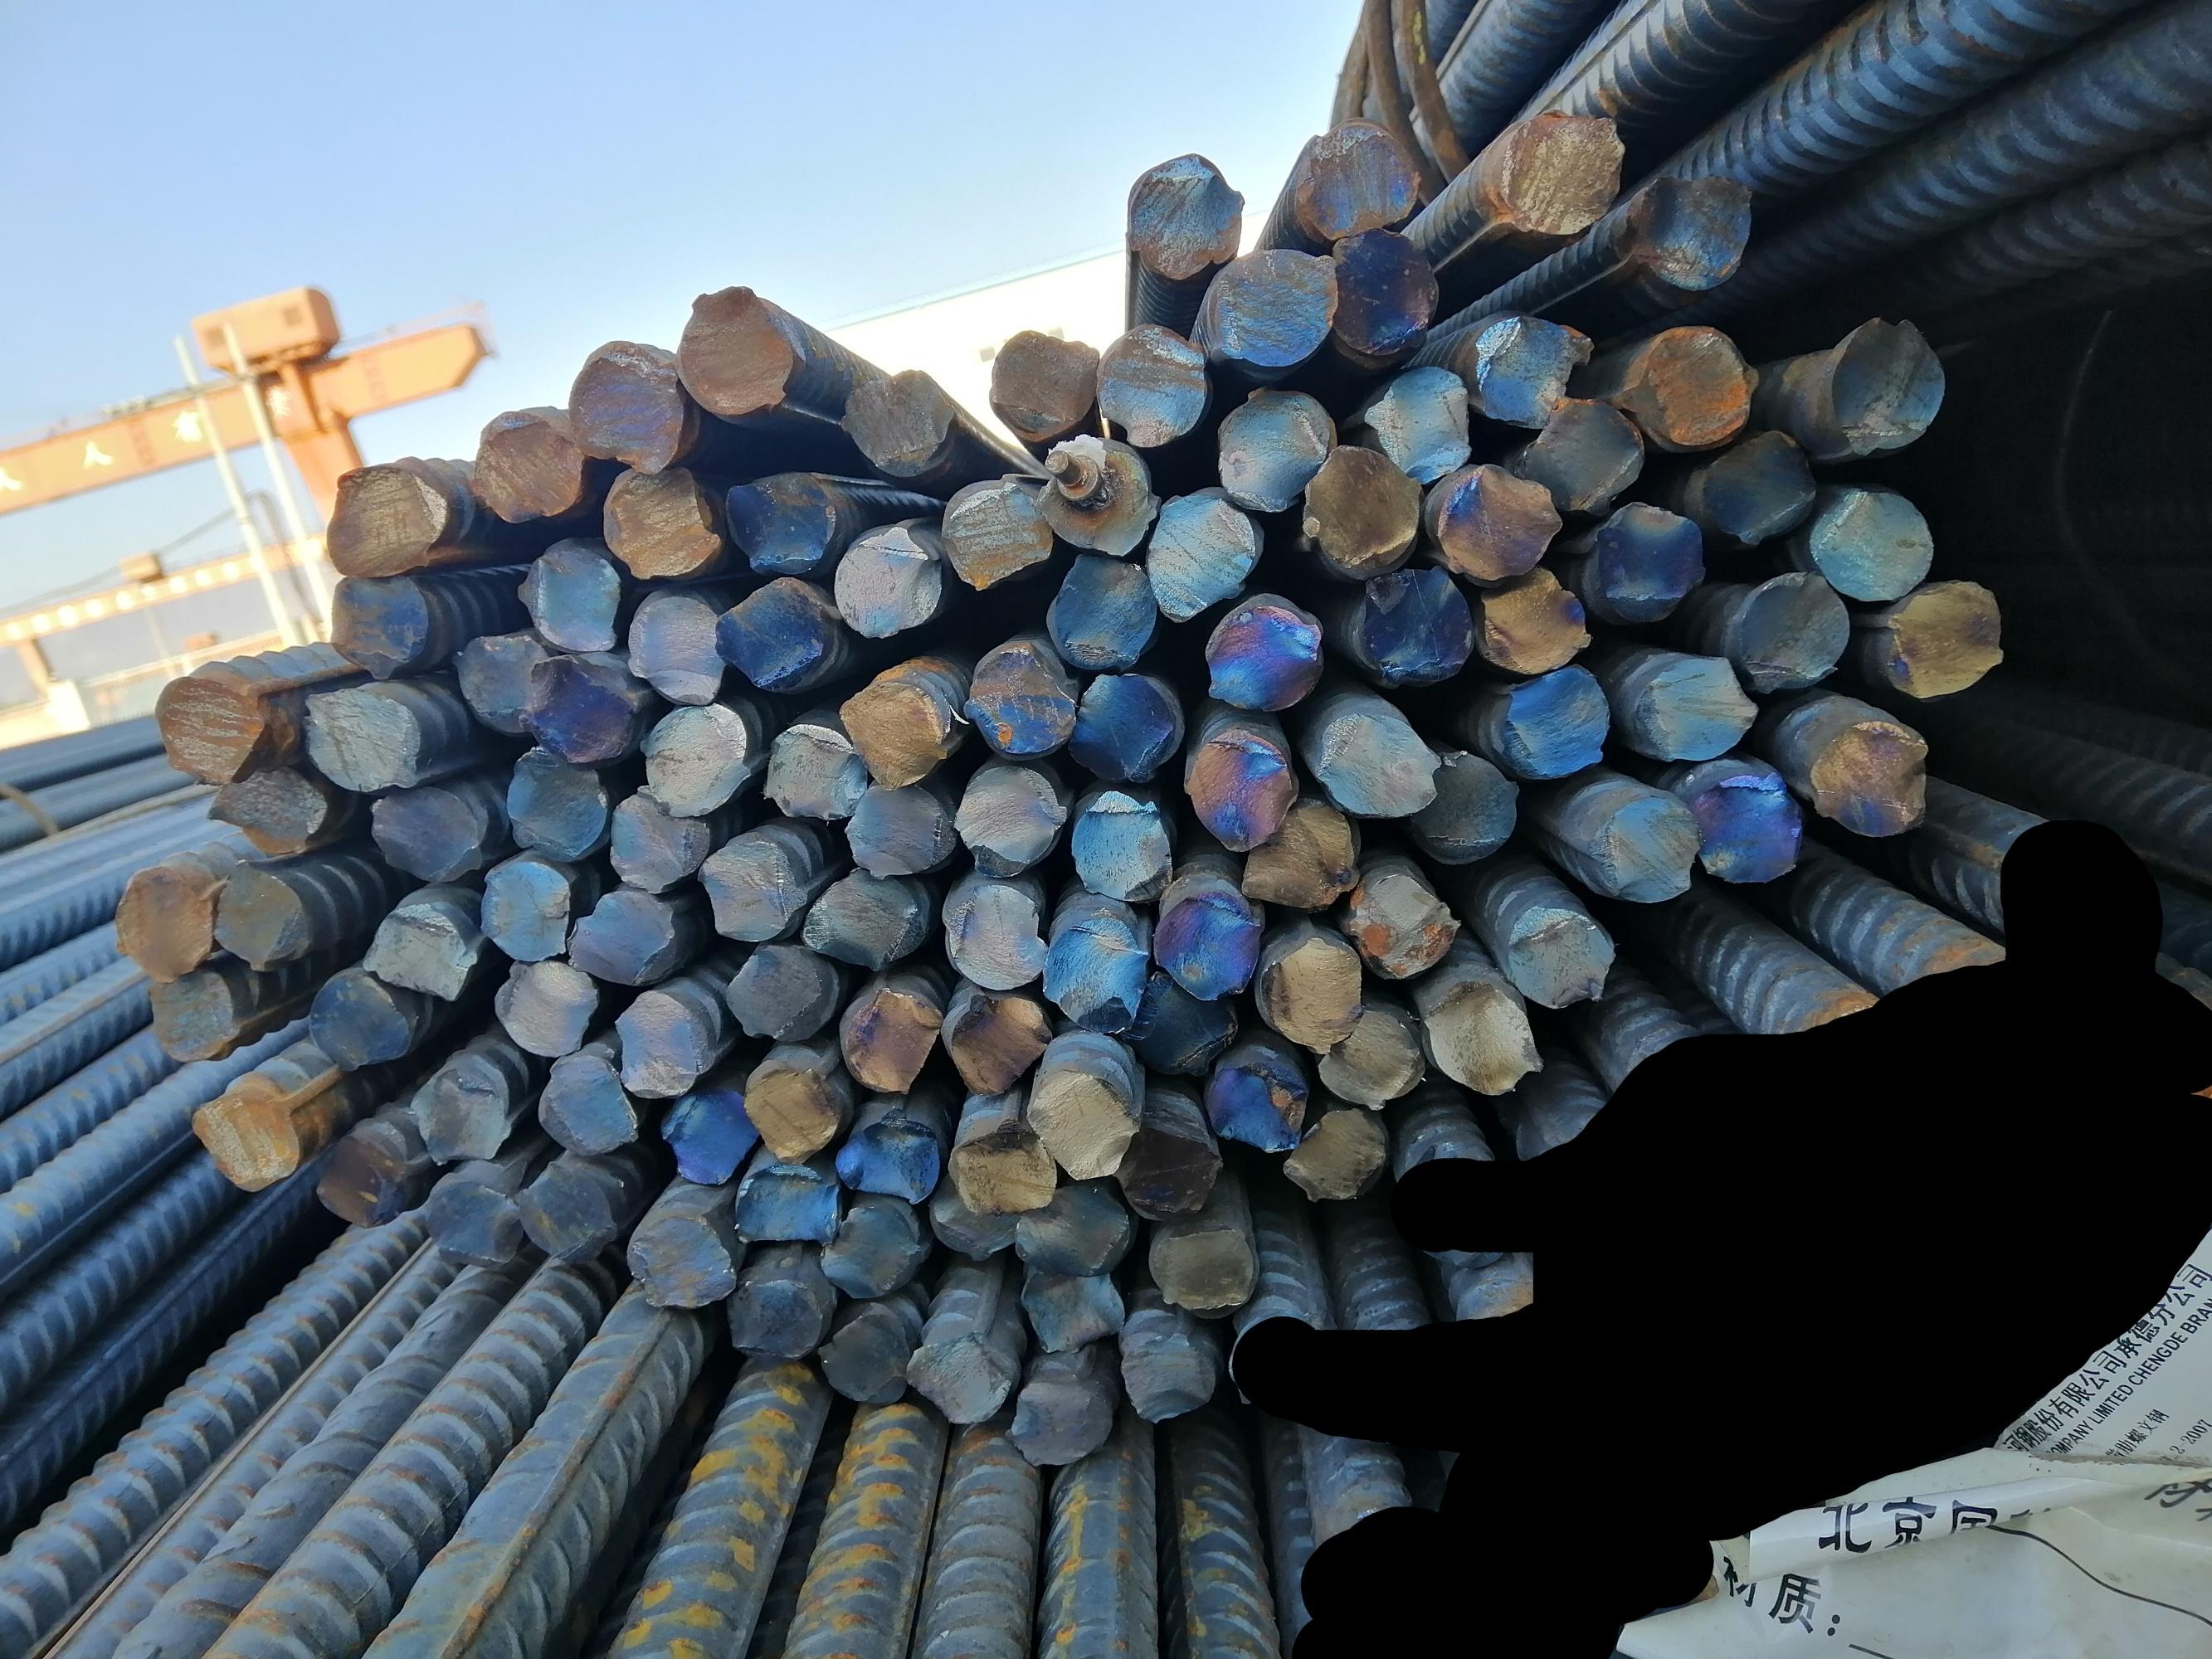bar: (1478, 105, 1628, 239), (1820, 310, 1952, 458), (1208, 380, 1340, 519), (568, 335, 692, 481), (671, 277, 797, 420), (1621, 321, 1761, 446), (1727, 559, 1853, 699), (1286, 115, 1424, 240), (1199, 247, 1339, 369), (1426, 457, 1562, 580), (1143, 483, 1262, 624), (1625, 167, 1754, 295), (1520, 390, 1647, 518), (1177, 725, 1300, 856), (1037, 425, 1157, 558), (1121, 152, 1245, 279), (1462, 310, 1595, 427), (1302, 441, 1419, 573), (1091, 322, 1210, 451), (1323, 227, 1442, 356), (1203, 589, 1325, 713), (1354, 558, 1476, 681), (1586, 498, 1706, 624), (1881, 577, 2005, 697), (1809, 716, 1930, 840), (322, 458, 448, 577), (514, 650, 641, 767), (300, 681, 429, 796), (1628, 653, 1762, 763), (1808, 484, 1933, 601), (1358, 364, 1478, 484), (467, 406, 589, 525), (1421, 976, 1543, 1094), (146, 666, 267, 784), (600, 462, 720, 580), (638, 697, 755, 819), (964, 631, 1077, 756), (1583, 788, 1703, 904), (1492, 666, 1614, 781), (1311, 709, 1440, 817), (835, 669, 950, 789), (1687, 769, 1802, 889), (1021, 1068, 1143, 1182), (943, 471, 1055, 594), (711, 572, 830, 687), (1046, 549, 1157, 671), (366, 777, 490, 887), (835, 512, 943, 638), (1041, 906, 1147, 1033), (1701, 423, 1816, 540), (1006, 1173, 1131, 1279), (988, 328, 1103, 443), (1063, 671, 1178, 786), (1241, 798, 1360, 910), (500, 737, 607, 861), (190, 1079, 305, 1192), (842, 361, 955, 476), (692, 824, 805, 939), (953, 763, 1065, 880), (1342, 873, 1461, 983), (1504, 903, 1623, 1012), (363, 897, 483, 1006), (1152, 889, 1264, 1004), (518, 535, 622, 657), (1473, 566, 1590, 674), (1408, 749, 1525, 857), (560, 882, 680, 986), (112, 861, 214, 983), (800, 868, 922, 971), (943, 988, 1055, 1100), (941, 880, 1053, 992), (1001, 1366, 1117, 1473), (1072, 786, 1177, 904), (1262, 936, 1367, 1054), (326, 572, 432, 687), (725, 939, 842, 1044), (624, 589, 725, 709), (725, 464, 835, 573), (1110, 1107, 1220, 1216), (406, 1054, 512, 1168), (309, 964, 417, 1073), (492, 955, 600, 1065), (612, 988, 718, 1100), (605, 781, 709, 894), (514, 1152, 617, 1267), (206, 763, 329, 857), (1279, 1100, 1389, 1204), (1130, 972, 1241, 1075), (840, 979, 940, 1094), (622, 1209, 734, 1310), (845, 775, 950, 882), (1318, 1006, 1428, 1107), (903, 1328, 1014, 1427), (214, 857, 309, 974), (535, 1051, 638, 1155), (763, 718, 866, 823), (1121, 1321, 1222, 1427), (838, 1100, 943, 1201), (1203, 1054, 1307, 1155), (310, 1122, 410, 1229), (821, 1199, 922, 1302), (450, 624, 549, 728), (814, 1304, 915, 1405), (950, 1121, 1056, 1216), (662, 1087, 763, 1187), (422, 1175, 525, 1272), (744, 1058, 838, 1164), (736, 1155, 844, 1248), (1149, 1225, 1259, 1316), (479, 856, 570, 964), (141, 967, 239, 1065), (1020, 1272, 1126, 1354), (732, 1274, 830, 1361), (927, 1183, 1016, 1258)
